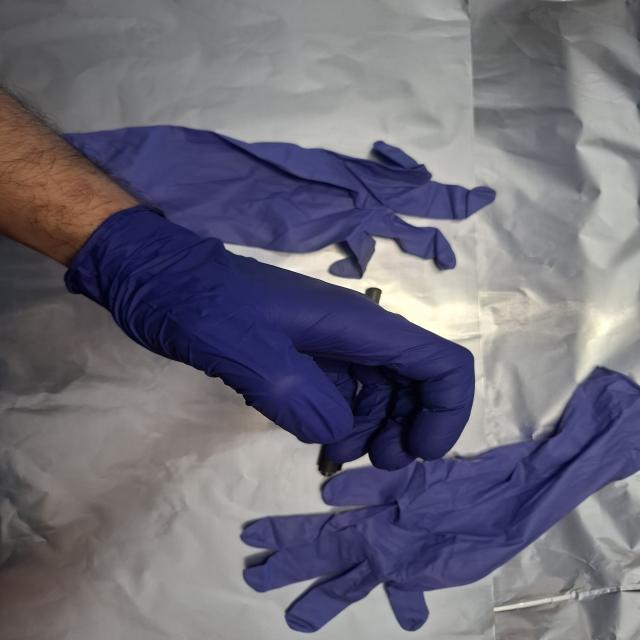glove_on: (74, 208, 481, 475)
